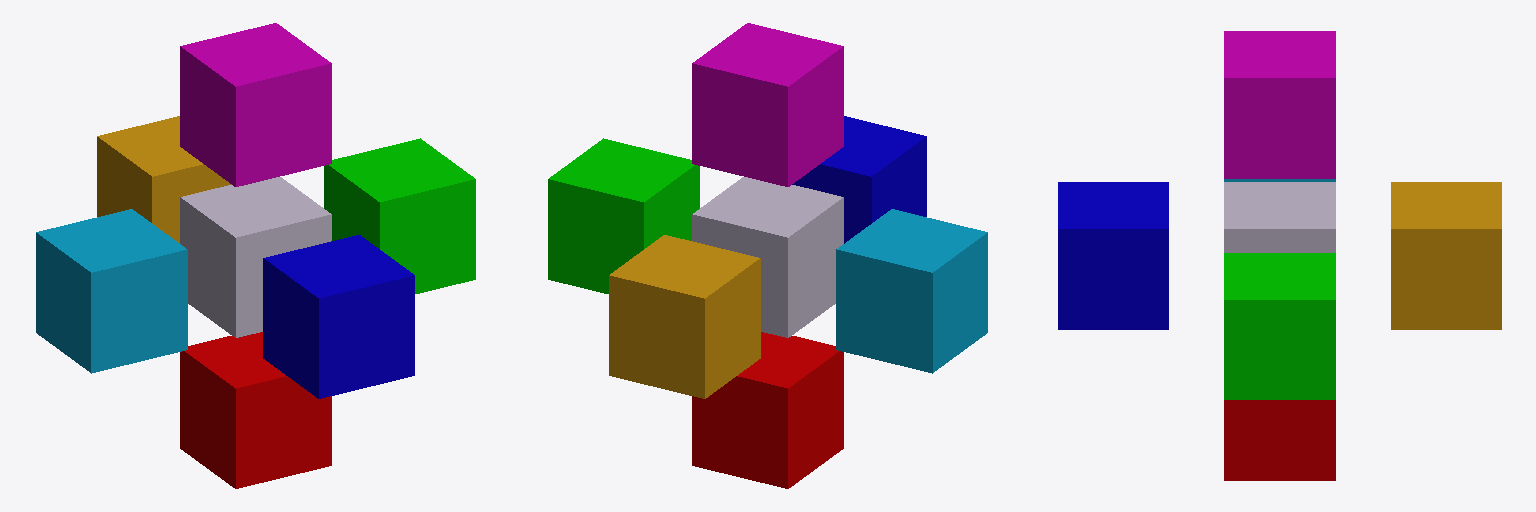
File: test_multiple_mats.obj
3 renders of one model, left to right at view 1: azimuth 30°, elevation 25°; view 2: azimuth 150°, elevation 25°; view 3: azimuth 270°, elevation 25°, orthographic.
Parts seen in each view (by area): view 1: Cube.001, Cube.006, Cube.004, Cube.003, Cube.005, Cube.000, Cube.002; view 2: Cube.001, Cube.006, Cube.002, Cube.003, Cube.005, Cube.000, Cube.004; view 3: Cube.001, Cube.005, Cube.002, Cube.004, Cube.003, Cube.000.
Part boxes in pixels (left/top/right/bottom): Cube.001: left=180, top=23, right=331, bottom=186; Cube.006: left=36, top=209, right=187, bottom=373; Cube.004: left=263, top=235, right=414, bottom=398; Cube.003: left=180, top=332, right=331, bottom=488; Cube.005: left=324, top=138, right=475, bottom=293; Cube.000: left=180, top=177, right=331, bottom=337; Cube.002: left=97, top=116, right=231, bottom=243; Cube.001: left=692, top=23, right=843, bottom=186; Cube.006: left=836, top=209, right=987, bottom=373; Cube.002: left=609, top=235, right=760, bottom=398; Cube.003: left=692, top=332, right=843, bottom=488; Cube.005: left=548, top=138, right=699, bottom=293; Cube.000: left=692, top=177, right=843, bottom=337; Cube.004: left=792, top=116, right=926, bottom=243; Cube.001: left=1224, top=31, right=1335, bottom=178; Cube.005: left=1224, top=253, right=1335, bottom=399; Cube.002: left=1391, top=182, right=1501, bottom=329; Cube.004: left=1058, top=182, right=1168, bottom=329; Cube.003: left=1224, top=400, right=1335, bottom=480; Cube.000: left=1224, top=182, right=1335, bottom=252.
Size of the model in its own units: 8 by 8 by 8.